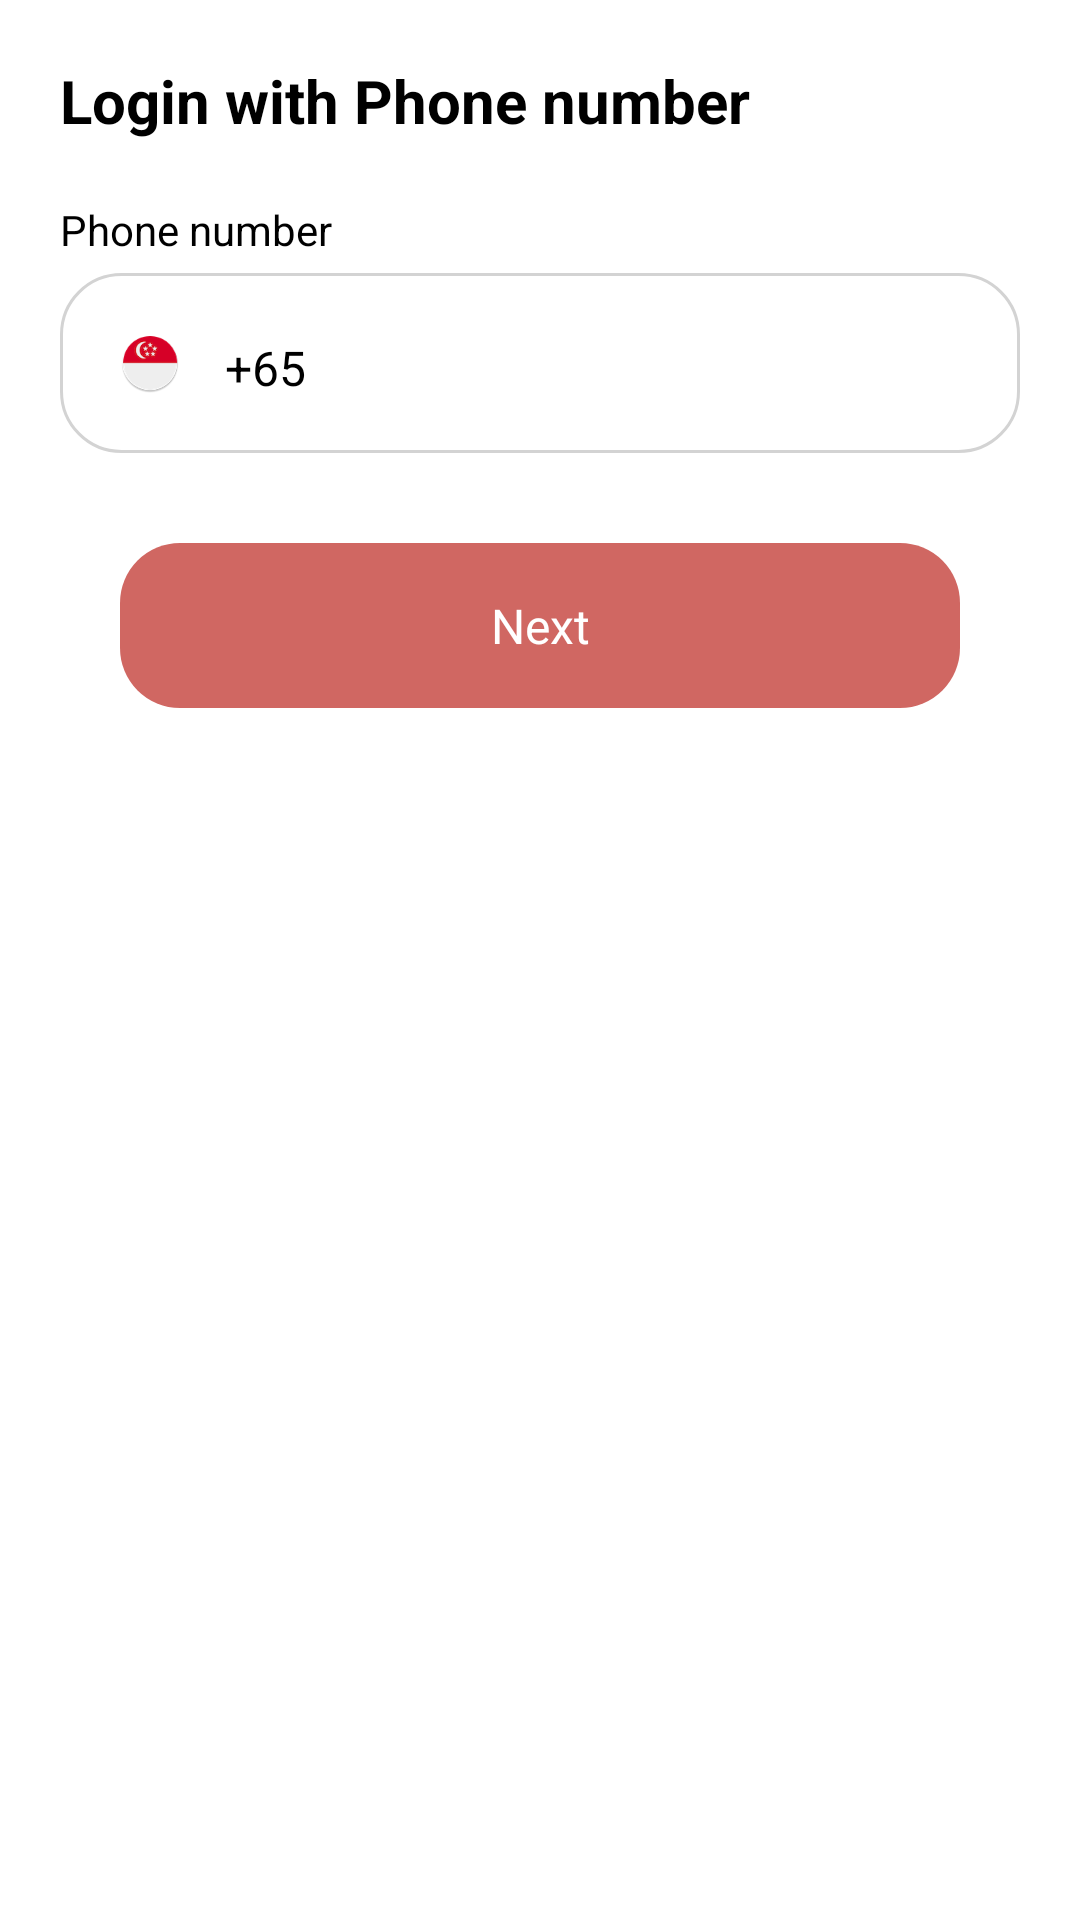

Locate icon controls on the screen. Image size 1080 x 1920, boxes as (x1, y1, x2, y2).
flag round: (122, 336, 178, 392)
